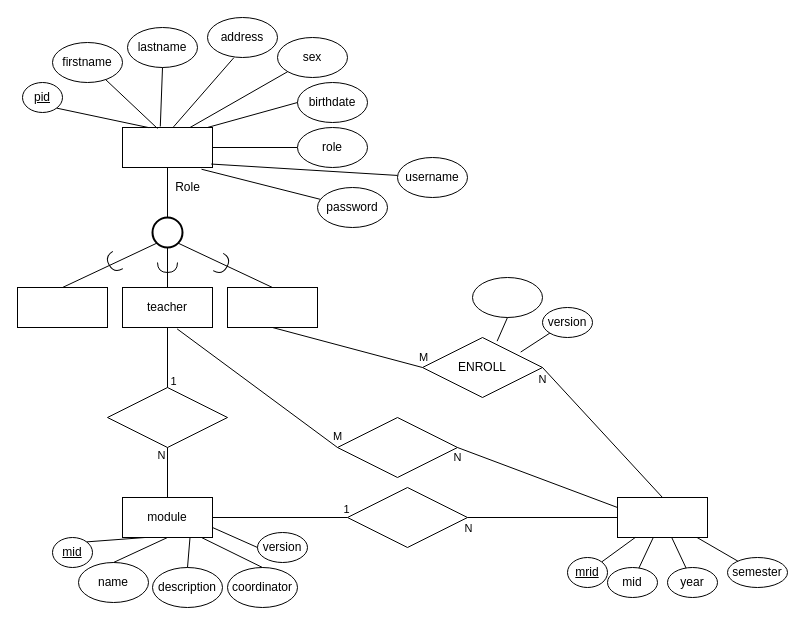
This 805x625 diagram has some shape labels left out. Each missing label, with the centre of its shape:
"admin" goes at pixel 62 307.
"BELONGS" goes at pixel 407 517.
"COORDINATES" goes at pixel 167 417.
"grade" goes at pixel 507 297.
"person" goes at pixel 167 147.
"run" goes at pixel 662 517.
"student" goes at pixel 272 307.
"TEACHES" goes at pixel 397 447.
